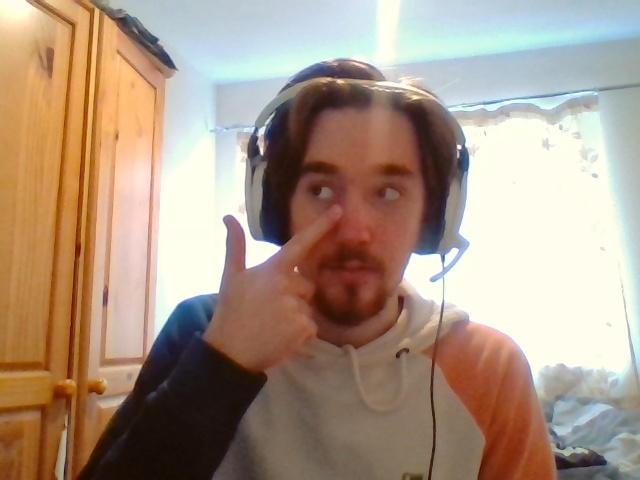luck: (223, 205, 343, 348)
